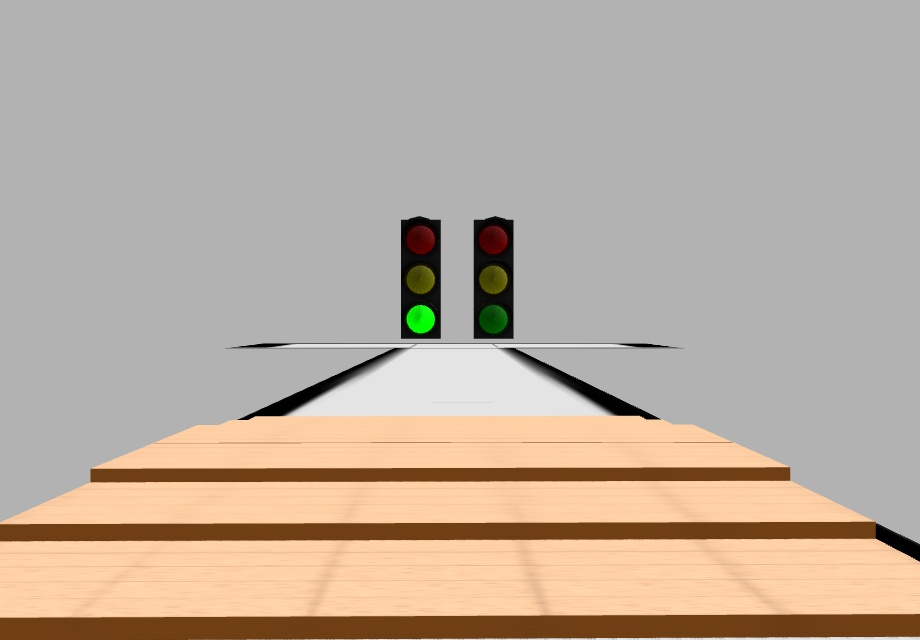green_off: (477, 302, 510, 338)
green_on: (401, 300, 437, 336)
stairs: (3, 415, 920, 640)
